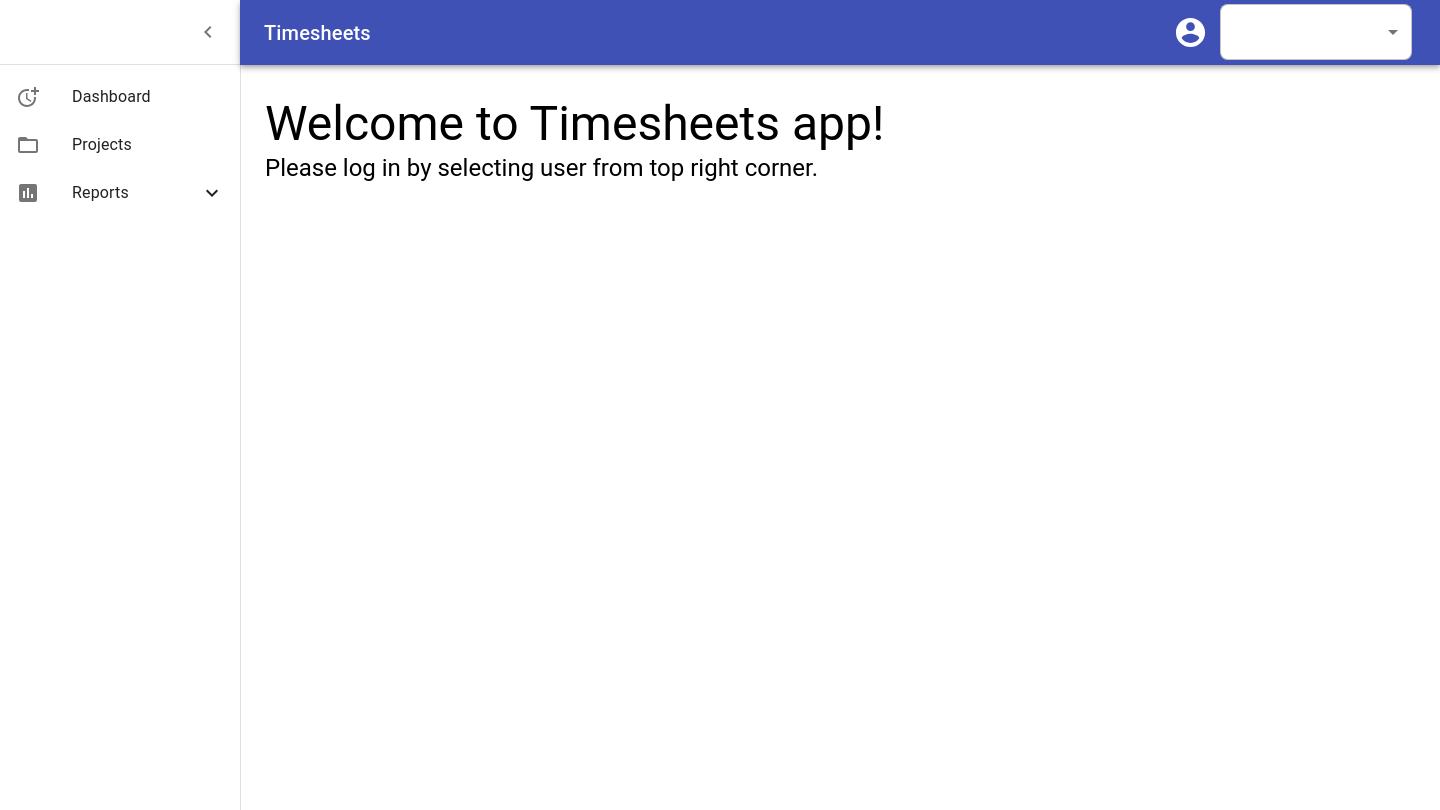
app with manager user › should toggle visible navigation link to billing reports view
This screenshot has width=1440, height=810.
Expected: the heading "Timesheets" is shown, [264, 20, 371, 44]
Click the button "Reports" at [120, 193], box [16, 181, 224, 205]
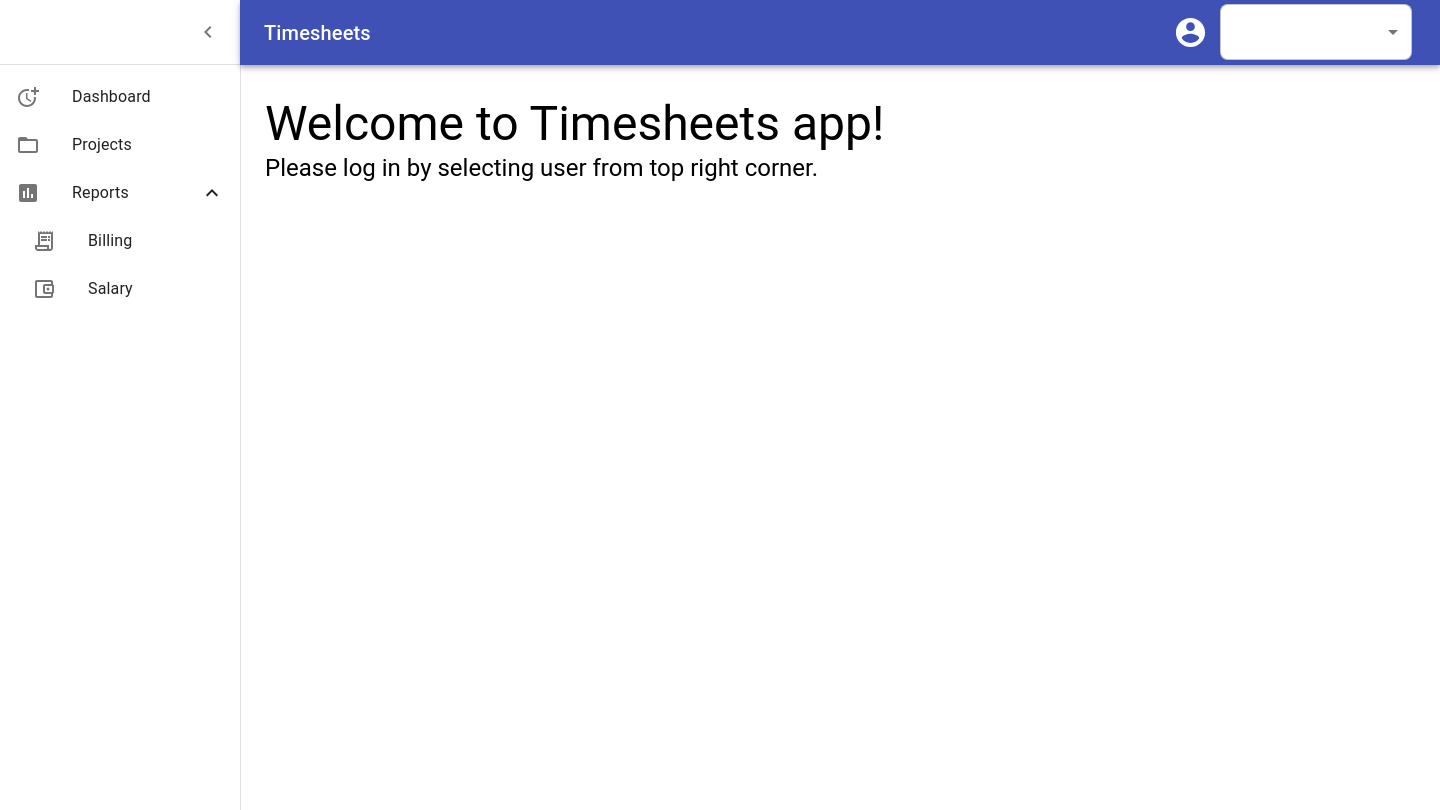
Result: the text "Billing" is shown at [88, 231, 132, 250]
